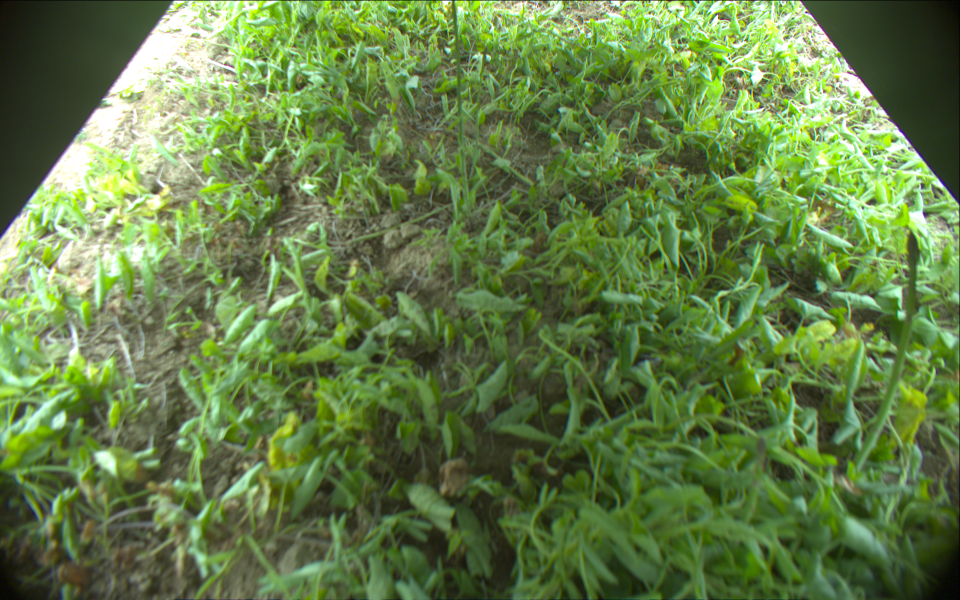aspa: (846, 229, 919, 479), (450, 1, 462, 149)
